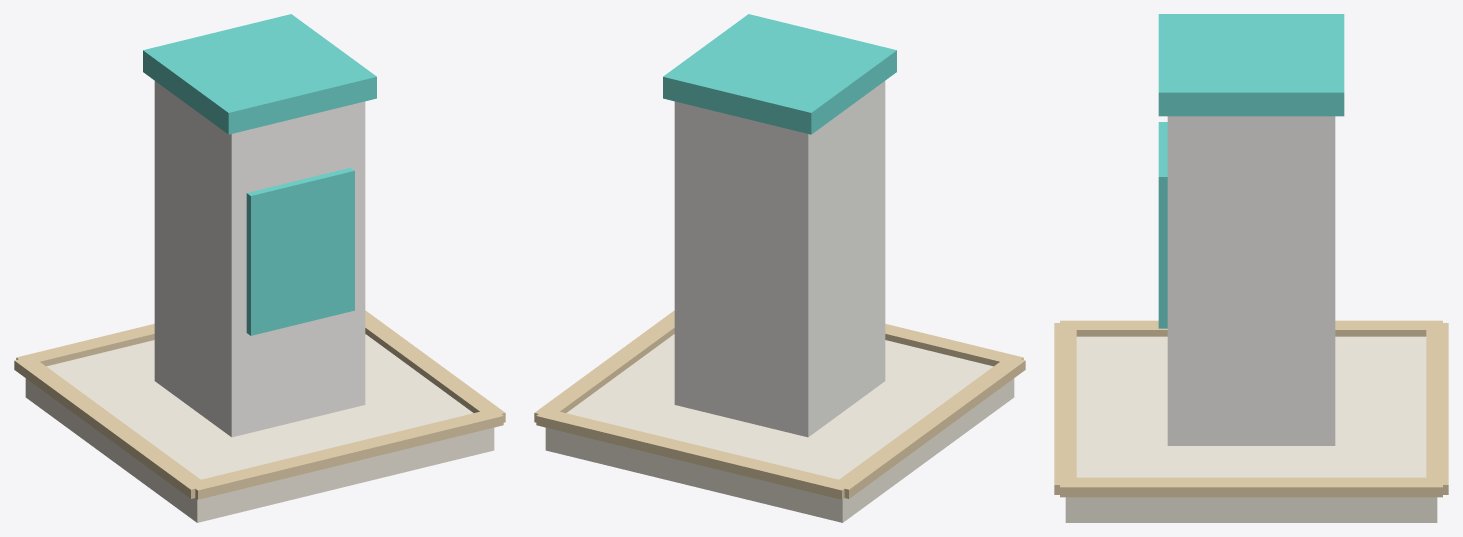
Rendered from city.express_lift.glb.
3 views of the same model, side by side, from view 1: azimuth 30°, elevation 25°; view 2: azimuth 150°, elevation 25°; view 3: azimuth 270°, elevation 25° (orthographic). The views are drawn at different scales.
Parts seen in each view (by area): view 1: city.express_lift; view 2: city.express_lift; view 3: city.express_lift.
Part boxes in pixels (x1=…): city.express_lift: x1=14, y1=14, x2=505, y2=522; city.express_lift: x1=534, y1=14, x2=1025, y2=522; city.express_lift: x1=1054, y1=14, x2=1448, y2=522.
Size of the model in its own units: 2.12 by 2.32 by 2.12.
